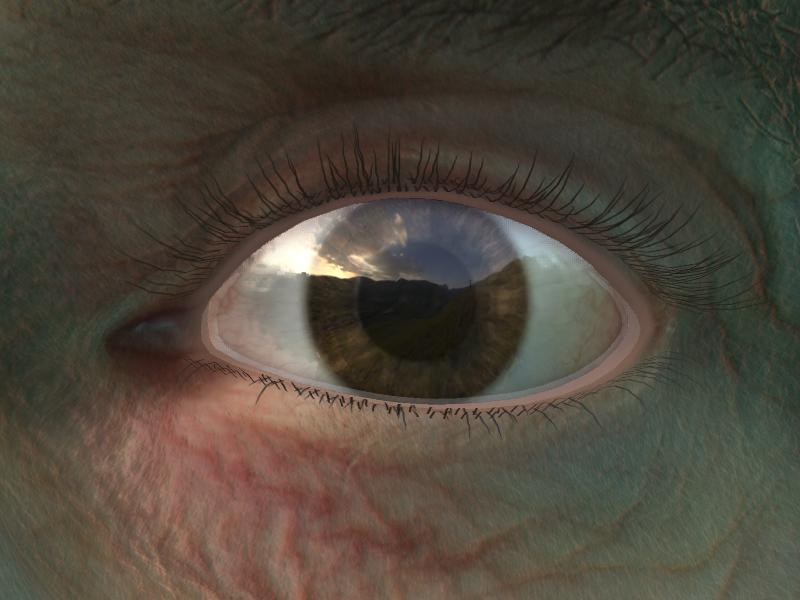eye: (305, 194, 532, 397)
